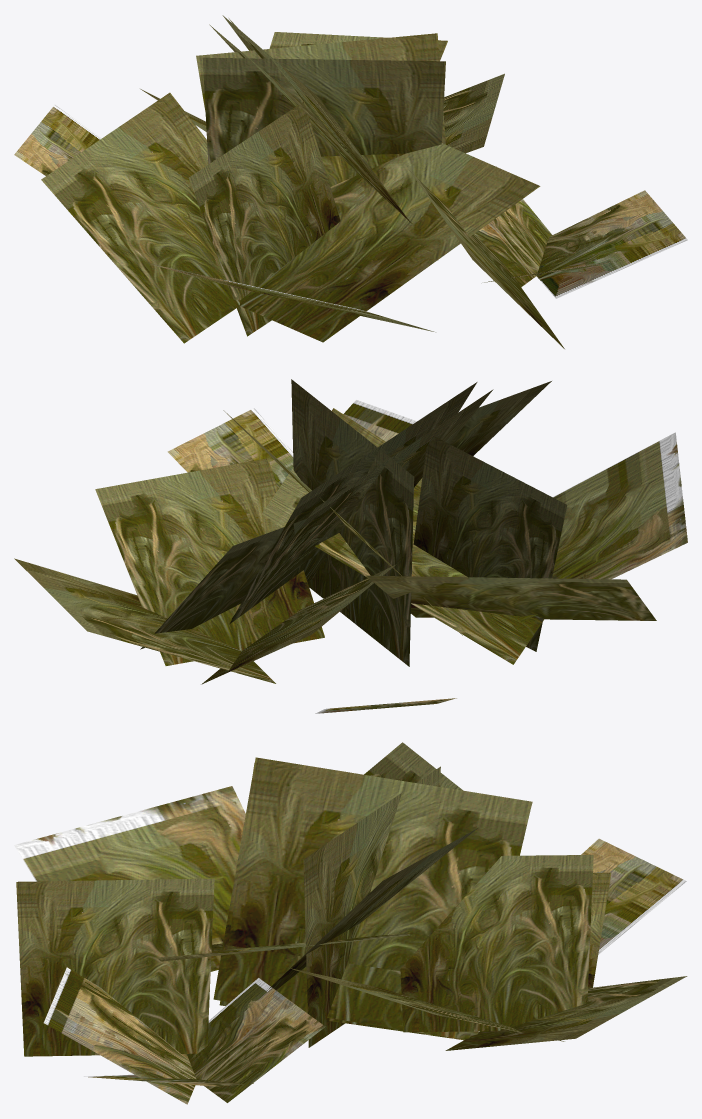
The model's file is dry_grass_small.glb.
3 views of the same model, one above another, from view 1: azimuth 30°, elevation 25°; view 2: azimuth 150°, elevation 25°; view 3: azimuth 270°, elevation 25° (orthographic). The views are drawn at different scales.
Visible parts, largest first — view 1: grass2.001; view 2: grass2.001; view 3: grass2.001.
Part boxes in pixels (left/top/right/bottom): grass2.001: left=14, top=15, right=687, bottom=348; grass2.001: left=14, top=379, right=687, bottom=713; grass2.001: left=14, top=742, right=687, bottom=1104.
Size of the model in its own units: 3.44 by 1.47 by 3.65.
1 material, 1 textured.
